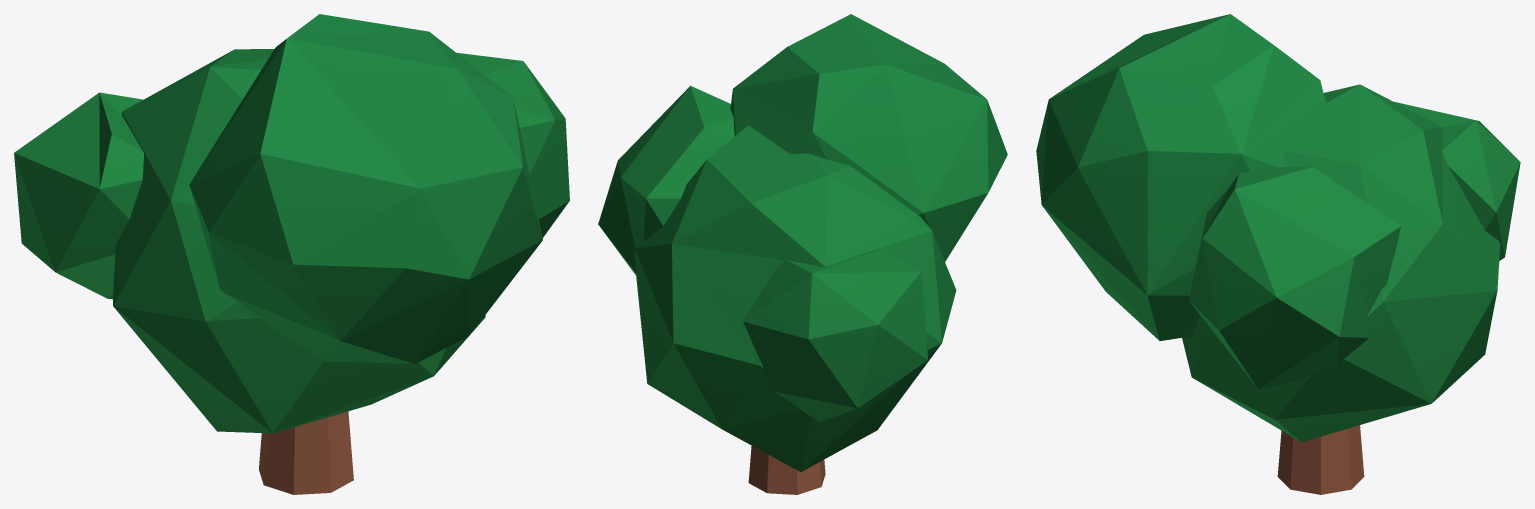
Rendered from fall_bush2.glb.
3 renders of one model, left to right at view 1: azimuth 30°, elevation 25°; view 2: azimuth 150°, elevation 25°; view 3: azimuth 270°, elevation 25°, orthographic. The views are drawn at different scales.
Visible parts, largest first — view 1: Bush_5_gradient_green; view 2: Bush_5_gradient_green; view 3: Bush_5_gradient_green.
Boxes of the visible parts, x1,y1,x2,y2 form: Bush_5_gradient_green: (14,14,569,494); Bush_5_gradient_green: (598,14,1007,494); Bush_5_gradient_green: (1036,14,1520,494).
Size of the model in its own units: 0.3134 by 0.3292 by 0.3343.
1 material, 1 textured.
